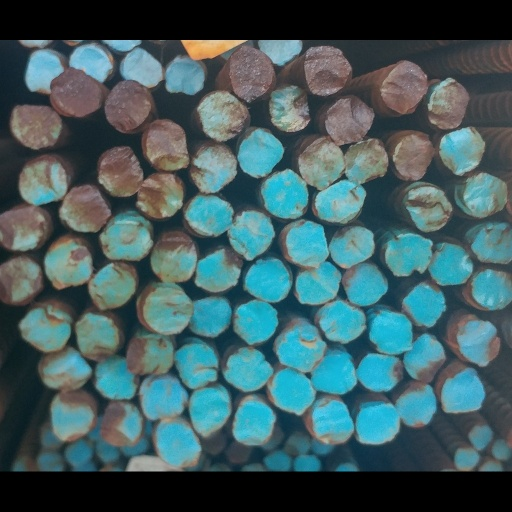dipstick: (374, 19, 435, 93), (137, 286, 192, 353), (299, 5, 357, 67), (194, 58, 252, 119), (13, 312, 73, 370), (220, 359, 276, 421), (138, 88, 189, 156), (184, 118, 239, 180), (95, 121, 145, 188), (10, 71, 64, 132), (255, 150, 309, 211), (87, 255, 140, 317), (400, 165, 453, 227), (426, 43, 474, 111), (453, 156, 511, 212), (57, 169, 112, 228), (317, 67, 376, 122), (74, 319, 125, 382), (228, 5, 275, 73), (435, 104, 492, 160), (47, 414, 101, 473), (138, 392, 191, 452), (272, 331, 324, 392), (232, 415, 280, 481), (48, 33, 103, 90), (16, 137, 68, 197), (44, 228, 91, 294), (228, 197, 277, 260), (298, 112, 347, 175), (459, 264, 512, 322), (389, 104, 437, 168), (103, 45, 152, 107), (149, 440, 204, 495), (311, 164, 368, 217), (179, 182, 238, 233), (101, 201, 151, 261), (186, 409, 234, 471), (450, 330, 503, 386), (35, 365, 94, 415), (243, 252, 293, 311), (193, 240, 243, 299), (0, 191, 48, 252), (384, 224, 434, 282), (123, 347, 178, 399), (150, 224, 196, 286), (138, 156, 188, 213), (465, 205, 512, 265), (91, 370, 140, 427), (172, 354, 218, 414), (328, 217, 380, 270), (233, 305, 281, 362), (400, 346, 447, 404), (441, 387, 487, 446), (317, 308, 368, 361), (281, 212, 330, 267), (0, 252, 44, 313), (370, 315, 416, 373), (238, 103, 288, 156), (185, 299, 233, 354), (398, 286, 445, 341), (395, 408, 440, 465), (314, 364, 358, 421), (162, 14, 208, 68), (97, 424, 142, 478), (270, 52, 312, 109), (307, 422, 353, 474), (268, 388, 311, 443), (24, 8, 66, 64), (431, 237, 474, 291), (295, 261, 340, 312), (352, 427, 399, 475), (344, 263, 389, 313), (345, 116, 388, 168), (121, 8, 168, 55), (356, 371, 406, 415), (66, 5, 117, 48), (225, 472, 255, 504), (200, 462, 228, 495), (62, 471, 91, 501), (260, 482, 289, 512), (120, 468, 149, 497), (39, 455, 65, 486), (469, 455, 493, 488), (453, 482, 481, 508), (290, 488, 319, 512), (310, 469, 335, 494), (284, 462, 308, 488), (38, 486, 69, 506), (492, 472, 512, 500), (95, 474, 122, 491)
